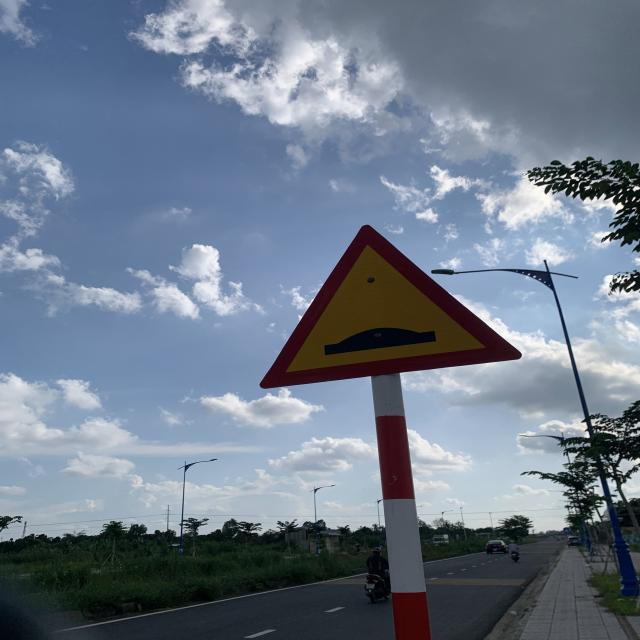Duong_Cong_Ben_Phai: (258, 222, 526, 390)
